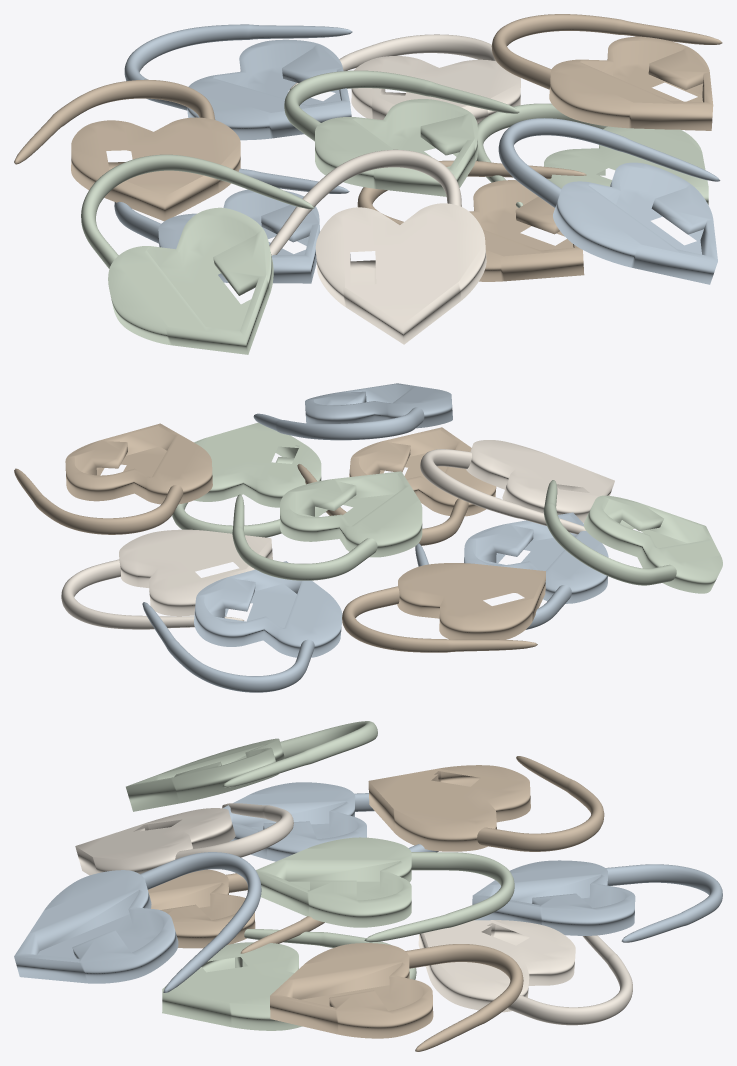
Rendered from row-counter.glb.
The picture shows the model from 3 angles, top to bottom: view 1: azimuth 30°, elevation 25°; view 2: azimuth 150°, elevation 25°; view 3: azimuth 270°, elevation 25°; orthographic projection. The views are drawn at different scales.
Parts seen in each view (by area): view 1: Cube.010, Cube.008, Cube.009, Cube.007, Cube.003, Cube, Cube.002, Cube.006, Cube.001, Circle.009, Cube.005, Cube.004 (+10 smaller); view 2: Cube.002, Cube, Cube.003, Cube.007, Cube.001, Cube.010, Cube.004, Cube.008, Cube.005, Cube.006, Cube.009, Circle.003 (+10 smaller); view 3: Cube.009, Cube.007, Cube, Cube.003, Cube.001, Cube.002, Cube.004, Cube.005, Cube.008, Cube.010, Cube.006, Circle (+9 smaller).
Boxes of the visible parts, x1,y1,x2,y2 form: Cube.010: (108, 207, 273, 354); Cube.008: (315, 203, 486, 344); Cube.009: (553, 162, 717, 284); Cube.007: (549, 36, 713, 130); Cube.003: (71, 117, 240, 221); Cube: (315, 99, 477, 196); Cube.002: (187, 39, 351, 140); Cube.006: (469, 180, 584, 281); Cube.001: (351, 56, 520, 123); Circle.009: (498, 118, 720, 207); Cube.005: (158, 189, 319, 283); Cube.004: (544, 126, 708, 204); Cube.002: (194, 561, 342, 657); Cube: (280, 471, 422, 557); Cube.003: (397, 563, 545, 639); Cube.007: (65, 423, 212, 504); Cube.001: (119, 529, 272, 616); Cube.010: (583, 495, 722, 593); Cube.004: (194, 422, 321, 507); Cube.008: (466, 440, 614, 522); Cube.005: (464, 512, 608, 603); Cube.006: (349, 427, 496, 516); Cube.009: (305, 383, 452, 428); Circle.003: (342, 586, 537, 652); Cube.009: (14, 870, 178, 983); Cube.007: (270, 943, 433, 1038); Cube: (256, 837, 411, 927); Cube.003: (368, 765, 530, 851); Cube.001: (418, 920, 575, 1012); Cube.002: (472, 860, 635, 935); Cube.004: (162, 942, 302, 1030); Cube.005: (223, 782, 366, 861); Cube.008: (75, 808, 235, 875); Cube.010: (126, 738, 284, 811); Cube.006: (148, 869, 255, 948); Circle: (364, 852, 514, 942).
Size of the model in its own units: 0.5174 by 0.0753 by 0.4867.
